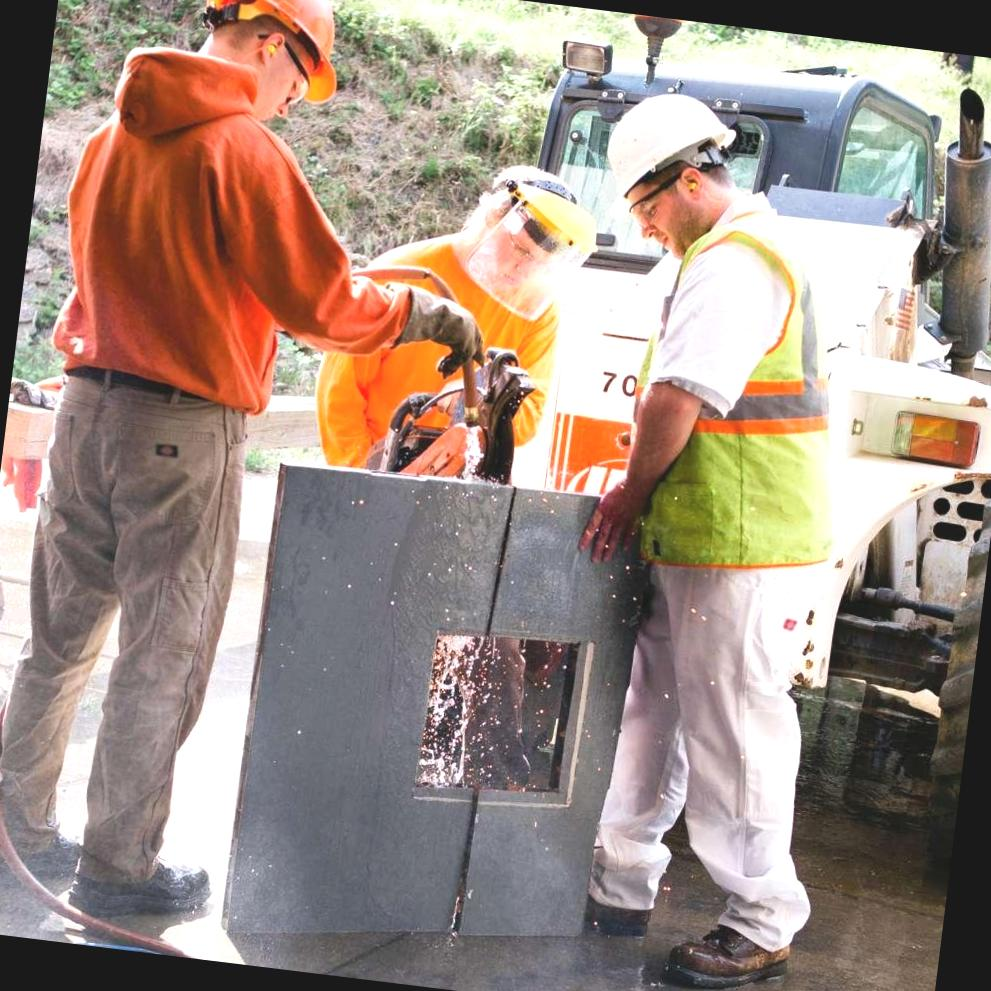helmet: (590, 84, 750, 230), (180, 0, 370, 103)
no_vest: (35, 49, 334, 446)
person: (0, 0, 403, 968), (501, 83, 897, 975)
